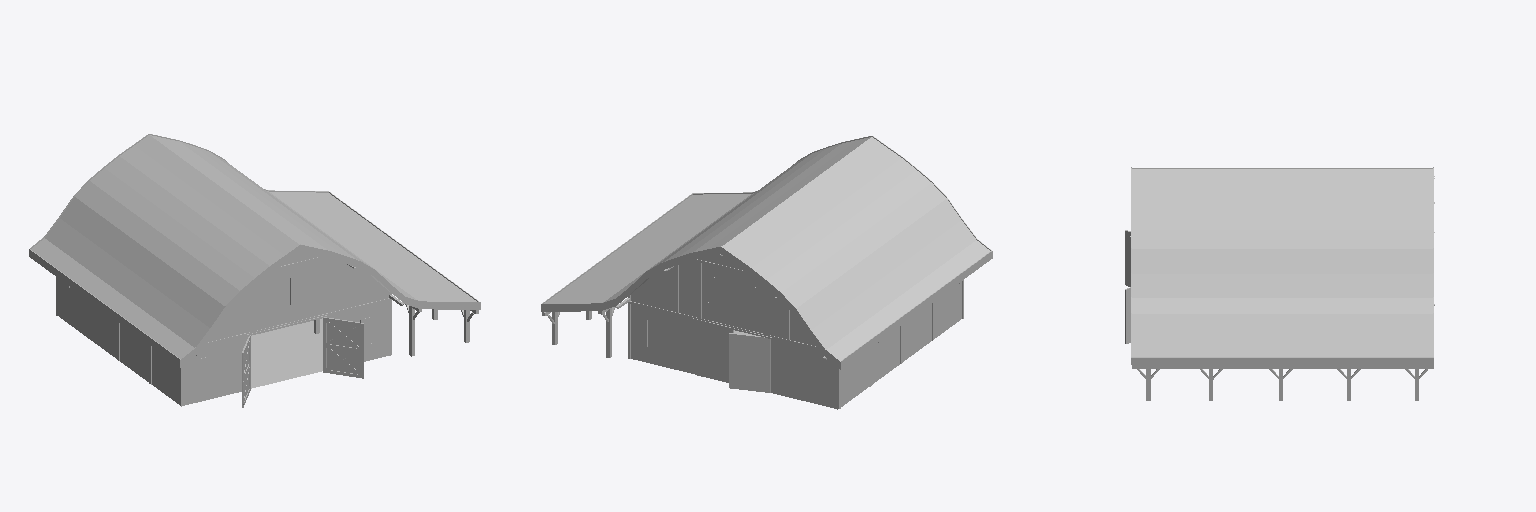
The model's file is barn03.obj.
3 renders of one model, left to right at view 1: azimuth 30°, elevation 25°; view 2: azimuth 150°, elevation 25°; view 3: azimuth 270°, elevation 25°, orthographic.
Visible parts, largest first — view 1: roof, hole_door, left_wall, ground_floor, roof_front, door001, roof_left, FixedWindow003, FixedWindow001, FixedWindow004, FixedWindow002; view 2: roof, hole_door001, left_wall, roof_back, door003, door004, roof_left, FixedWindow008, FixedWindow005, FixedWindow007, FixedWindow006; view 3: roof, roof_right, crossbeam_roof001.
Part boxes in pixels (x1,y1,x2,y2): roof: (31,135,476,358); hole_door: (184,252,388,405); left_wall: (58,278,179,404); ground_floor: (205,318,322,388); roof_front: (181,244,479,366); door001: (323,317,363,378); roof_left: (29,249,180,367); FixedWindow003: (290,273,315,304); FixedWindow001: (188,357,212,387); FixedWindow004: (257,281,281,312); FixedWindow002: (362,315,385,344); roof: (544,137,990,360); hole_door001: (631,255,834,408); left_wall: (841,283,961,406); roof_back: (542,246,840,368); door003: (729,333,770,392); door004: (696,321,733,382); roof_left: (840,251,992,369); FixedWindow008: (703,275,729,308); FixedWindow005: (634,317,659,349); FixedWindow007: (737,283,762,316); FixedWindow006: (807,359,832,391); roof: (1132,168,1432,356); roof_right: (1131,357,1433,364); crossbeam_roof001: (1132,365,1433,368).
Size of the model in its own units: 4010 by 1873 by 3592.